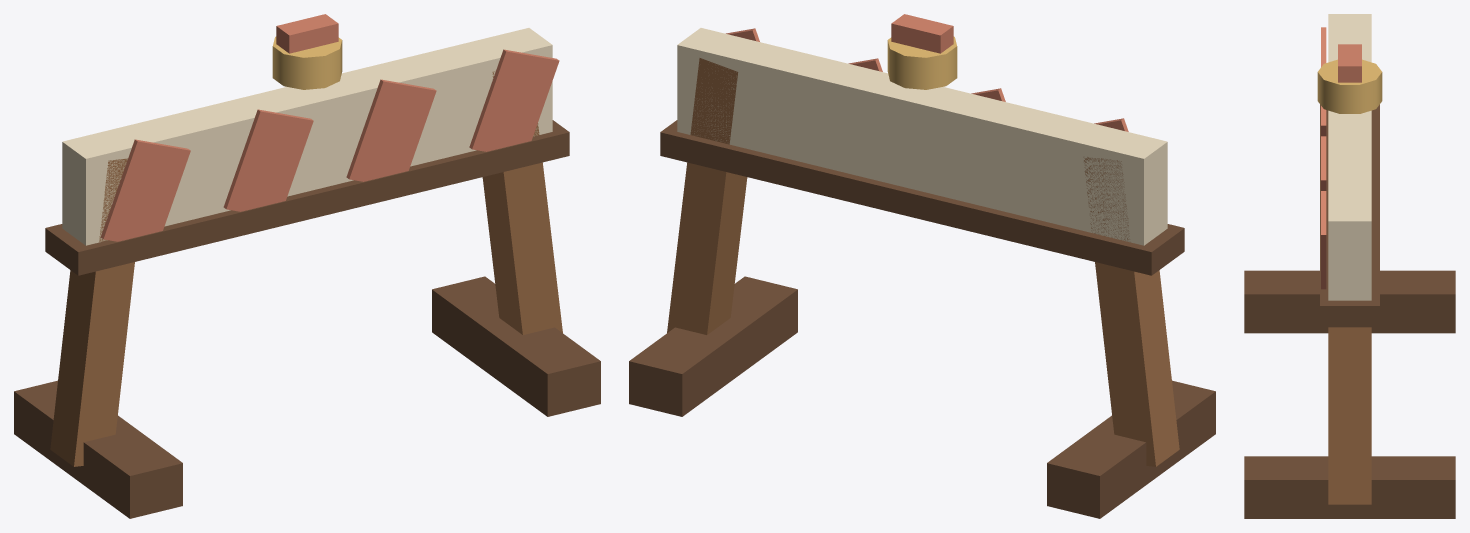
Rendered from road-closure-sign.glb.
3 renders of one model, left to right at view 1: azimuth 30°, elevation 25°; view 2: azimuth 150°, elevation 25°; view 3: azimuth 270°, elevation 25°, orthographic. The views are drawn at different scales.
Visible parts, largest first — view 1: road-closure-sign_woodDark, road-closure-sign_cream, road-closure-sign_warning, road-closure-sign_wood, road-closure-sign_gold; view 2: road-closure-sign_cream, road-closure-sign_woodDark, road-closure-sign_wood, road-closure-sign_gold, road-closure-sign_warning; view 3: road-closure-sign_woodDark, road-closure-sign_cream, road-closure-sign_wood, road-closure-sign_gold, road-closure-sign_warning.
Boxes of the visible parts, x1=… form: road-closure-sign_woodDark: x1=14, y1=120, x2=600, y2=518; road-closure-sign_cream: x1=62, y1=28, x2=552, y2=245; road-closure-sign_warning: x1=101, y1=14, x2=559, y2=241; road-closure-sign_wood: x1=50, y1=71, x2=562, y2=466; road-closure-sign_gold: x1=272, y1=36, x2=342, y2=89; road-closure-sign_cream: x1=677, y1=28, x2=1167, y2=245; road-closure-sign_woodDark: x1=629, y1=120, x2=1215, y2=518; road-closure-sign_wood: x1=667, y1=58, x2=1179, y2=466; road-closure-sign_gold: x1=887, y1=36, x2=957, y2=89; road-closure-sign_warning: x1=726, y1=14, x2=1128, y2=131; road-closure-sign_woodDark: x1=1244, y1=104, x2=1455, y2=518; road-closure-sign_cream: x1=1328, y1=14, x2=1371, y2=300; road-closure-sign_wood: x1=1328, y1=327, x2=1371, y2=504; road-closure-sign_gold: x1=1317, y1=59, x2=1382, y2=113; road-closure-sign_warning: x1=1321, y1=27, x2=1361, y2=289.
Bounding box in the file's own units: 1.2 × 0.92 × 0.49.
